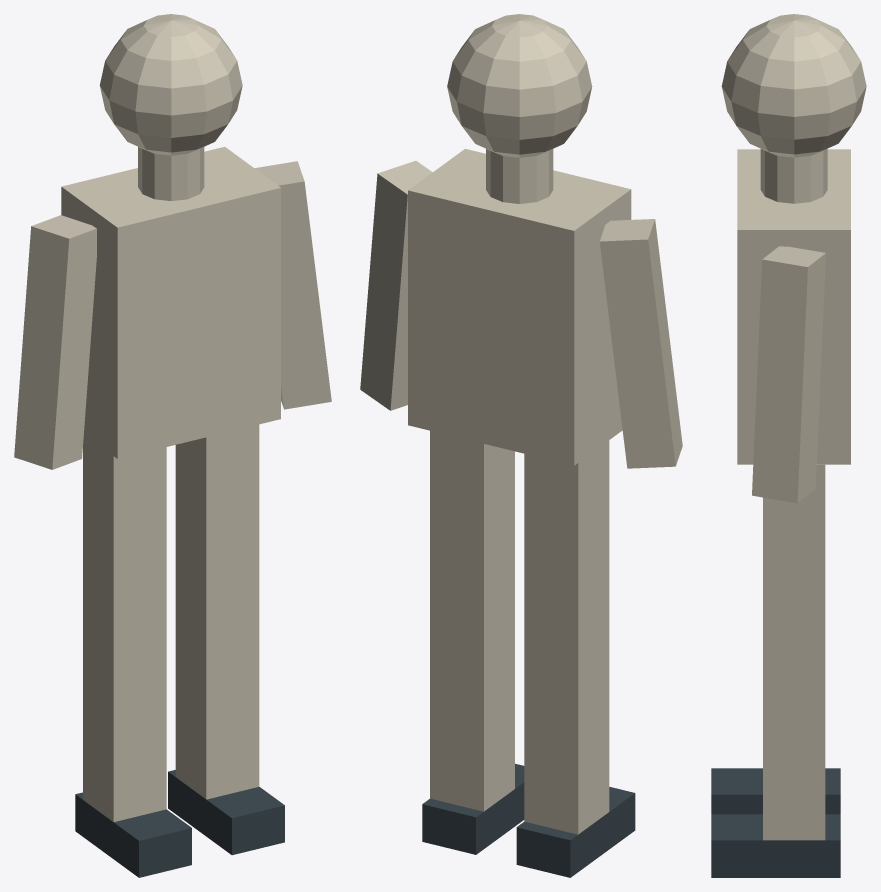
File: person.glb
3 renders of one model, left to right at view 1: azimuth 30°, elevation 25°; view 2: azimuth 150°, elevation 25°; view 3: azimuth 270°, elevation 25°, orthographic.
Visible parts, largest first — view 1: person; view 2: person; view 3: person.
Part boxes in pixels (left/top/right/bottom): person: left=14, top=14, right=331, bottom=877; person: left=360, top=14, right=682, bottom=877; person: left=711, top=14, right=866, bottom=877.
Bounding box in the file's own units: 0.7029 × 1.75 × 0.3.
